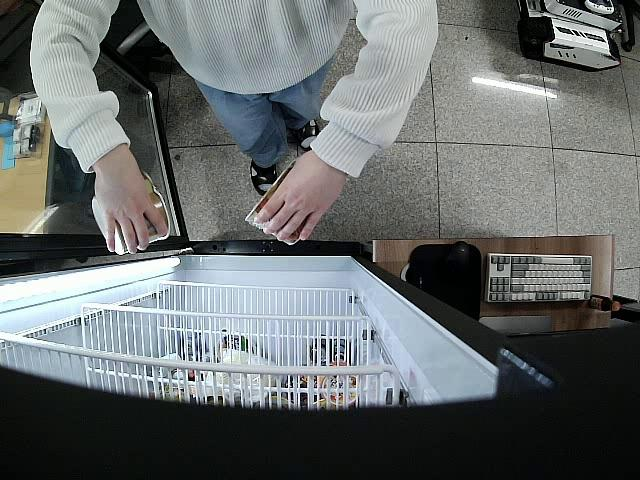00_hand: (259, 153, 341, 245), (98, 156, 166, 253)
03_chapagetti_L: (88, 171, 170, 246), (246, 161, 316, 241)
